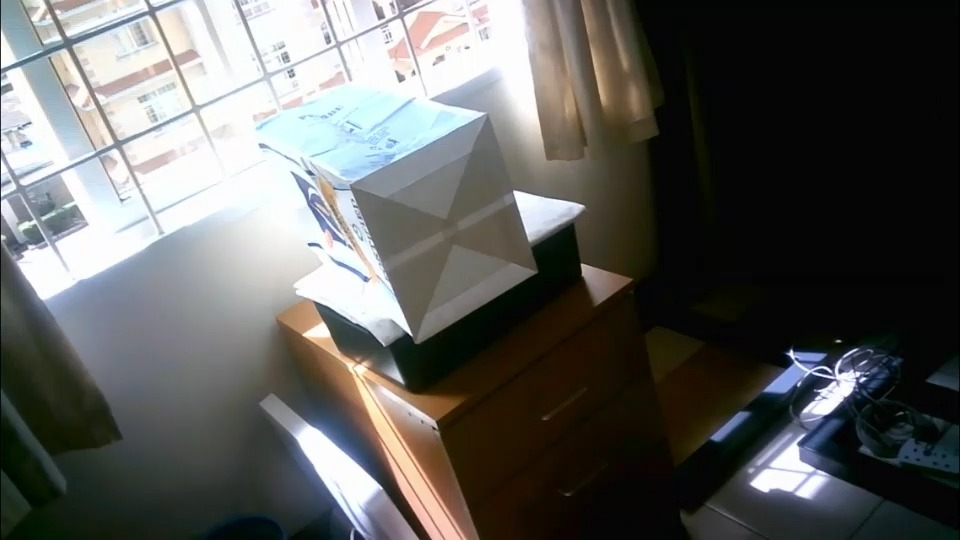wheat_flour_blue_label: (255, 82, 536, 341)
